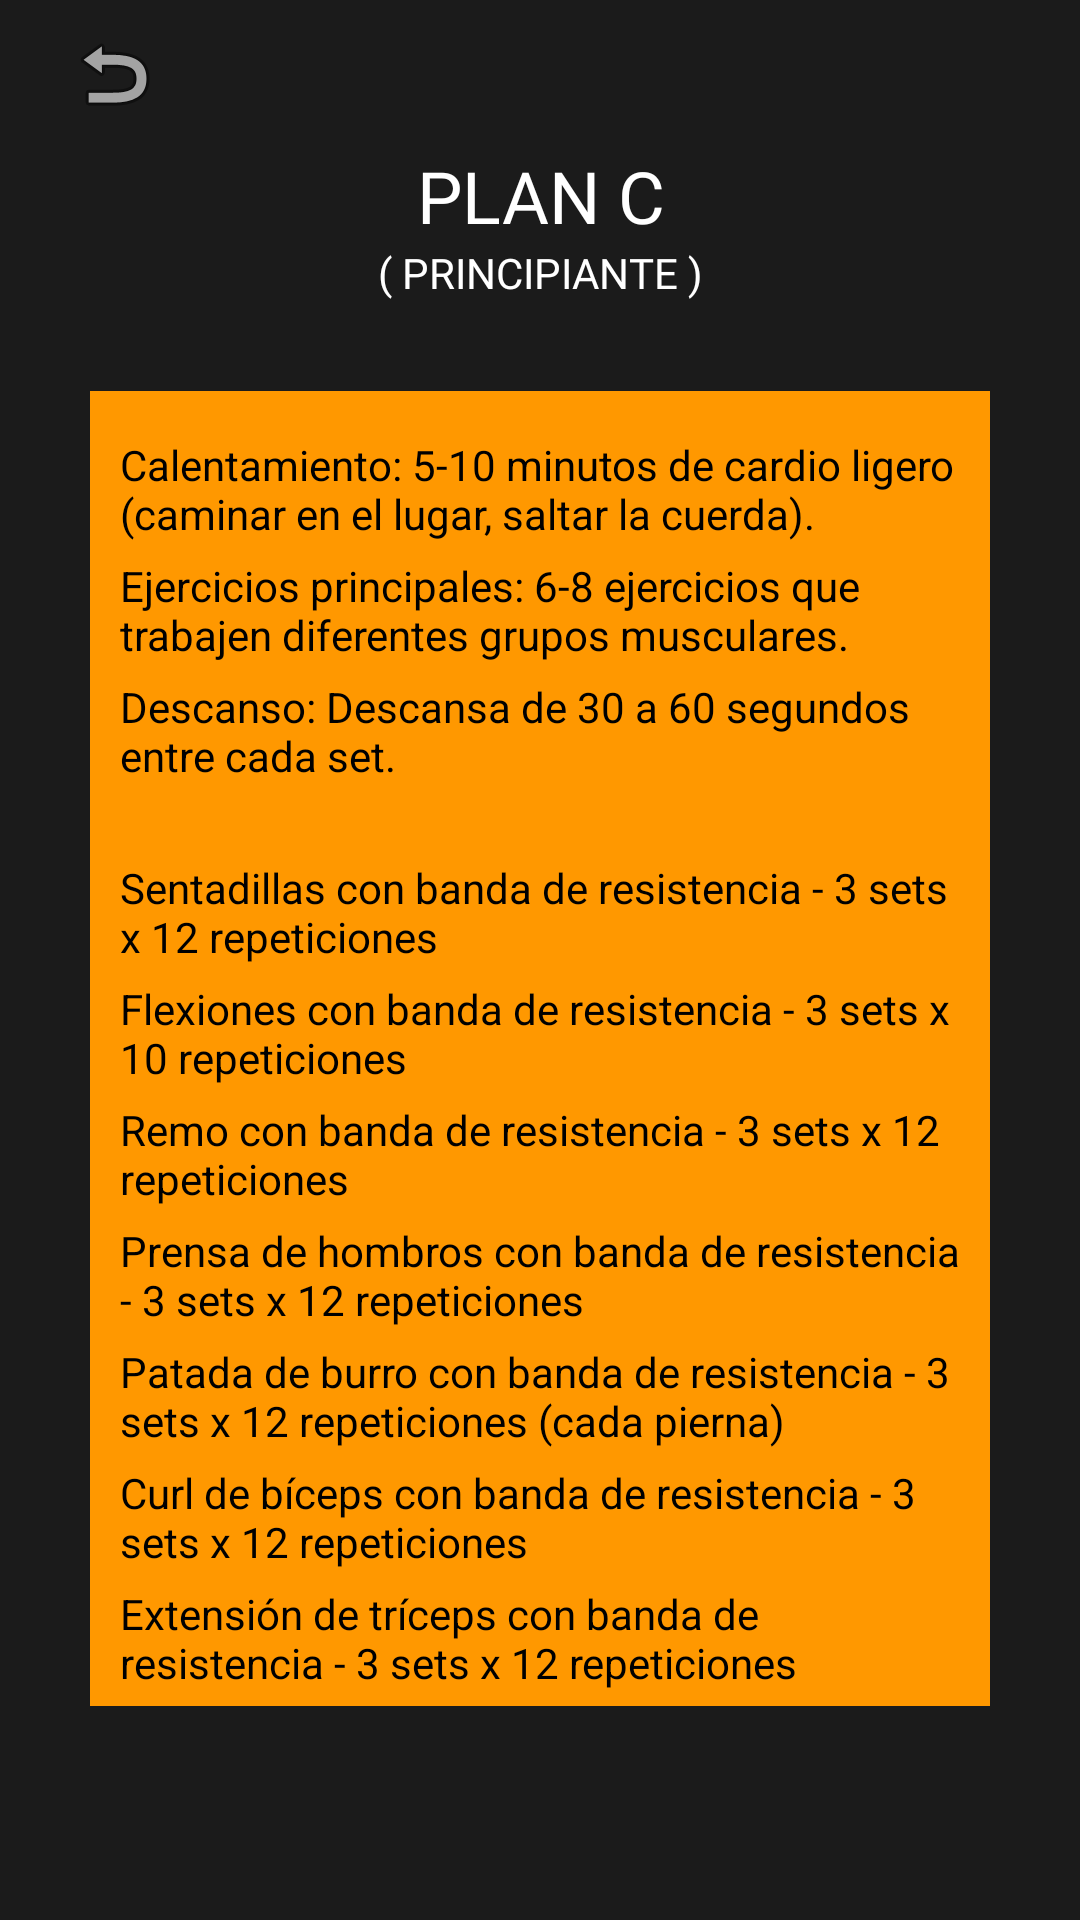

Screen size 1080px x 1920px. Icon name, then its box in pixels as (x1, y1, x2, y2):
volver: (84, 46, 147, 103)
